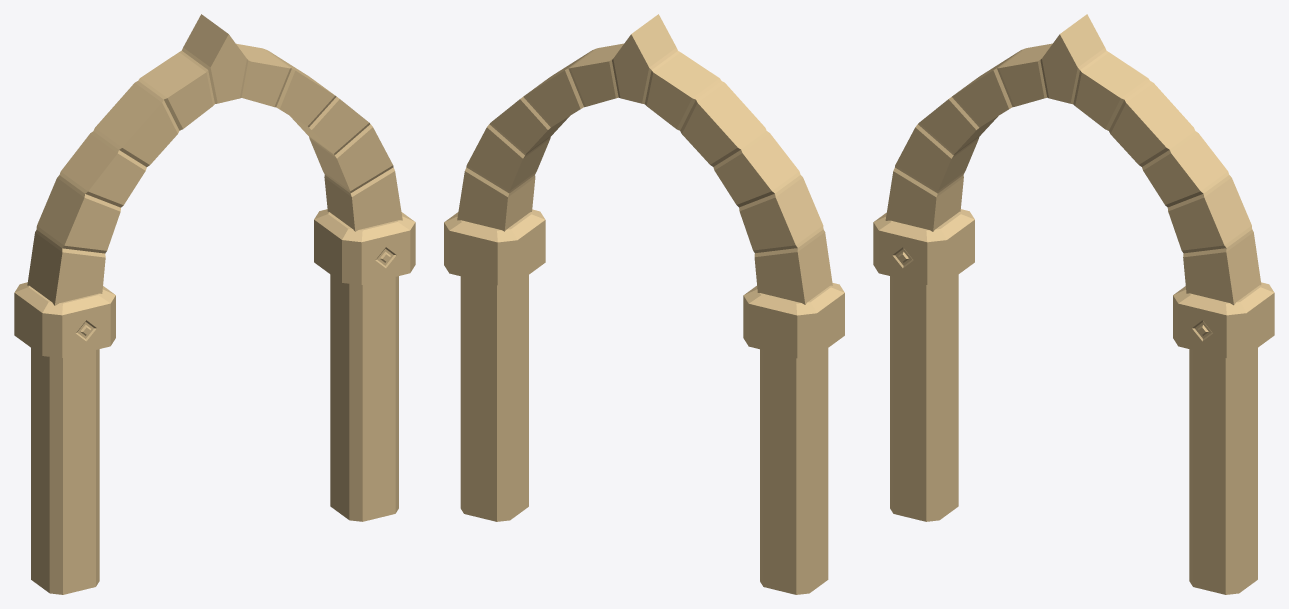
Rendered from Mesh_Archway.glb.
The picture shows the model from 3 angles, left to right: view 1: azimuth 30°, elevation 25°; view 2: azimuth 150°, elevation 25°; view 3: azimuth 330°, elevation 25°; orthographic projection.
Visible parts, largest first — view 1: Cube.051; view 2: Cube.051; view 3: Cube.051.
Part boxes in pixels (box(x1,y1,x2,y2)): Cube.051: box(14, 14, 415, 594); Cube.051: box(444, 14, 844, 594); Cube.051: box(873, 14, 1274, 594).
Bounding box in the file's own units: 15.09 × 20.1 × 3.
